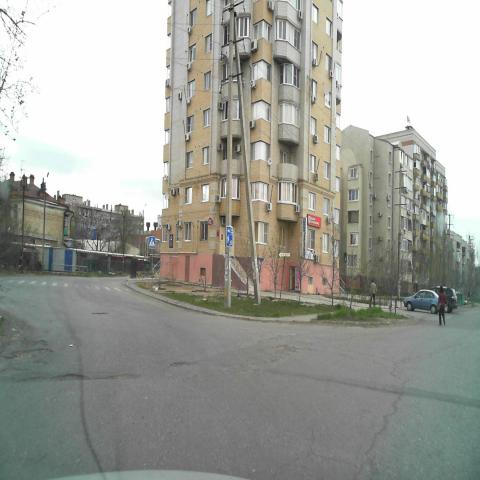5_21: (226, 225, 232, 248)
